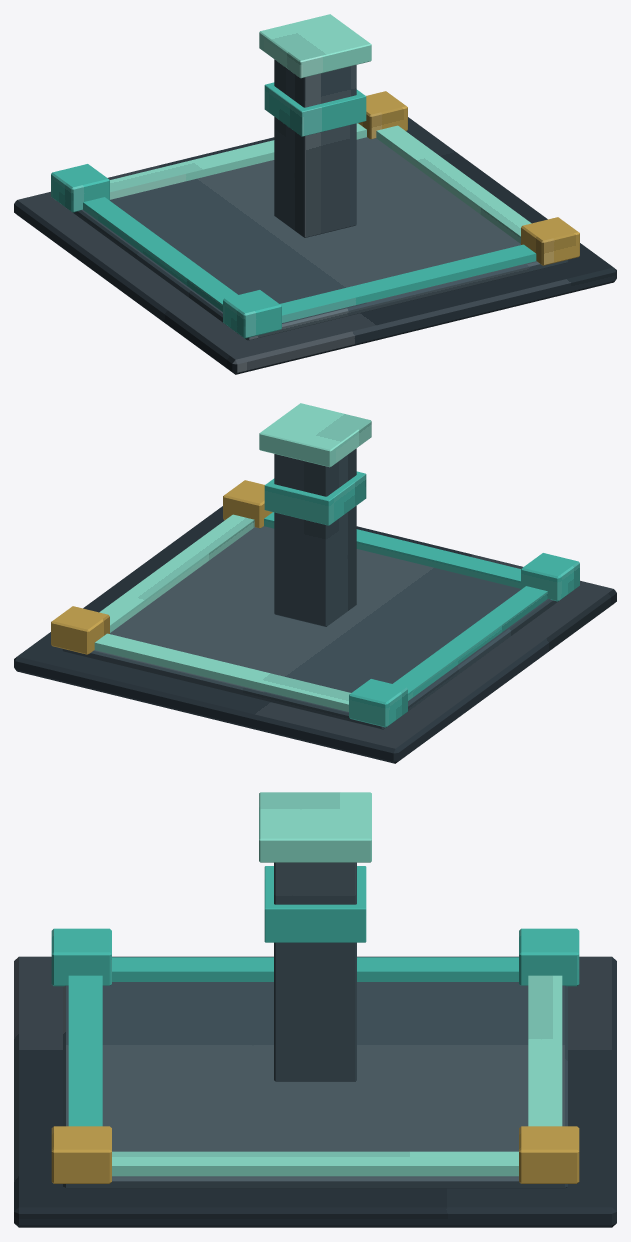
The model's file is safe_zone.glb.
3 views of the same model, one above another, from view 1: azimuth 30°, elevation 25°; view 2: azimuth 150°, elevation 25°; view 3: azimuth 270°, elevation 25° (orthographic). The views are drawn at different scales.
Visible parts, largest first — view 1: SafePadInset, SafePad, SafePost, SafeRing_1, SafeBeacon, SafeRing_4, SafeRing_3, SafeRing_2, PostBand, CornerBeacon_1, CornerBeacon_2, CornerBeacon_3 (+1 smaller); view 2: SafePadInset, SafePad, SafePost, SafeRing_2, SafeBeacon, SafeRing_4, SafeRing_3, SafeRing_1, PostBand, CornerBeacon_3, CornerBeacon_4, CornerBeacon_1 (+1 smaller); view 3: SafePadInset, SafePad, SafePost, SafeRing_4, SafeRing_3, SafeBeacon, SafeRing_1, SafeRing_2, PostBand, CornerBeacon_2, CornerBeacon_4, CornerBeacon_1 (+1 smaller).
Part boxes in pixels (x1,y1,x2,y2): SafePadInset: (67, 137, 568, 340); SafePad: (14, 117, 616, 374); SafePost: (274, 59, 356, 237); SafeRing_1: (280, 244, 536, 322); SafeBeacon: (259, 14, 371, 78); SafeRing_4: (376, 125, 531, 243); SafeRing_3: (83, 197, 237, 311); SafeRing_2: (110, 123, 366, 199); PostBand: (264, 82, 366, 136); CornerBeacon_1: (223, 290, 281, 338); CornerBeacon_2: (521, 217, 579, 265); CornerBeacon_3: (51, 164, 109, 212); SafePadInset: (62, 526, 563, 729); SafePad: (14, 506, 616, 763); SafePost: (274, 448, 356, 626); SafeRing_2: (94, 633, 350, 711); SafeBeacon: (259, 403, 371, 467); SafeRing_4: (99, 514, 254, 632); SafeRing_3: (393, 586, 547, 700); SafeRing_1: (264, 512, 520, 588); PostBand: (264, 471, 366, 525); CornerBeacon_3: (349, 679, 407, 727); CornerBeacon_4: (51, 606, 109, 654); CornerBeacon_1: (521, 553, 579, 601); SafePadInset: (63, 982, 567, 1188); SafePad: (14, 956, 616, 1227); SafePost: (274, 862, 356, 1081); SafeRing_4: (112, 1151, 518, 1176); SafeRing_3: (112, 957, 518, 981); SafeBeacon: (259, 792, 371, 862); SafeRing_1: (68, 975, 102, 1126); SafeRing_2: (528, 975, 562, 1126); PostBand: (264, 866, 366, 942); CornerBeacon_2: (51, 1126, 111, 1183); CornerBeacon_4: (519, 1126, 579, 1183); CornerBeacon_1: (51, 928, 111, 986).
Bounding box in the file's own units: 1.6 × 0.84 × 1.6.
Materials: 1 (1 with a texture image).
